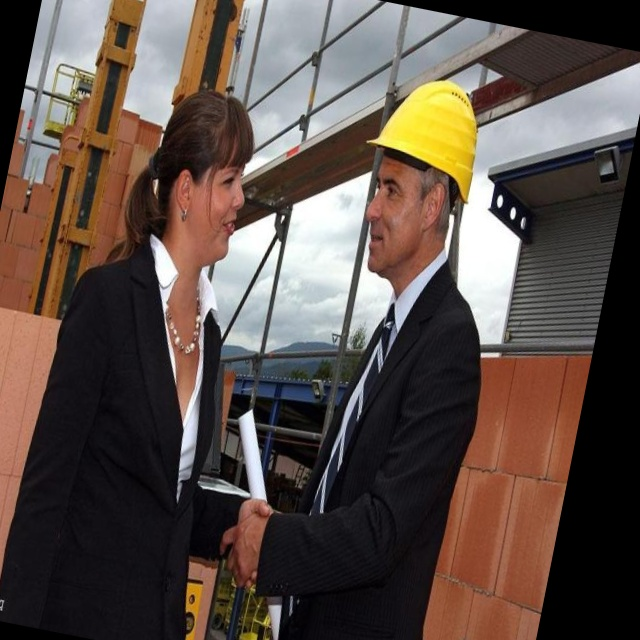Con_Casco: (350, 70, 489, 290)
Sin_Casco_Mascarrilla: (141, 82, 269, 267)
